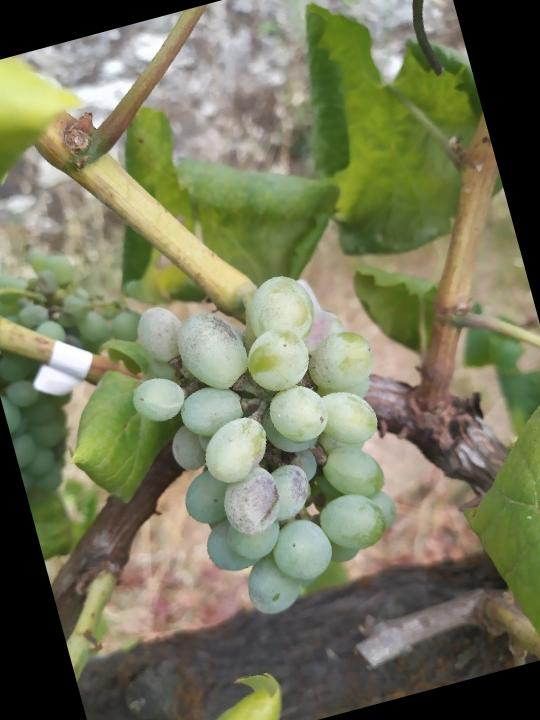grape: (107, 251, 434, 638)
